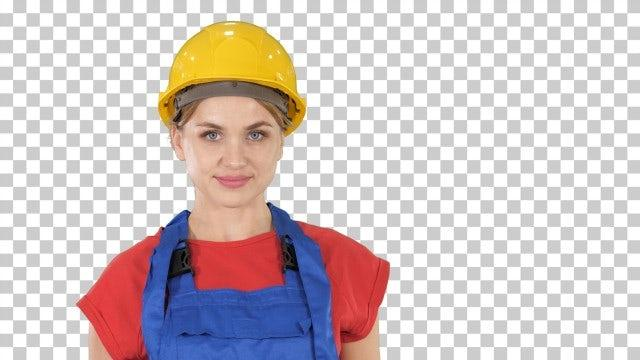helmet: (157, 19, 305, 135)
no_wear: (95, 224, 388, 360)
